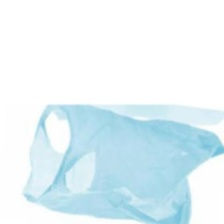plastic_bag: (16, 101, 223, 223)
